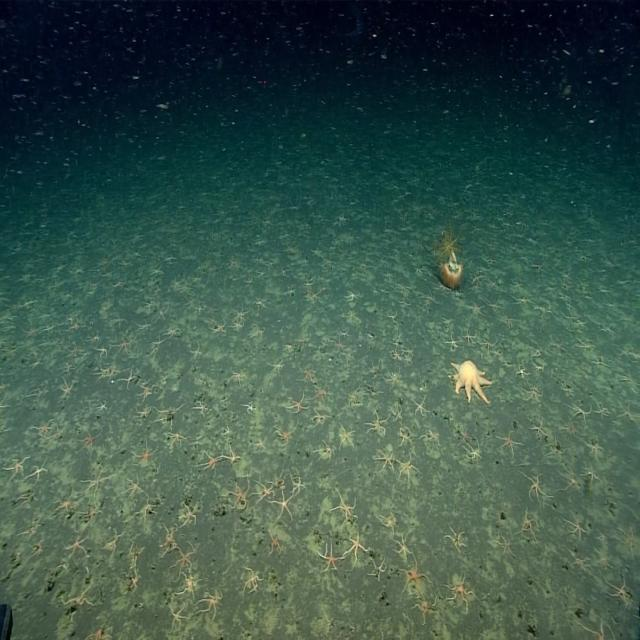brittle-stars: (82, 465, 112, 497), (605, 574, 633, 607), (401, 560, 428, 594), (520, 473, 548, 505), (172, 546, 197, 581), (446, 575, 471, 610), (228, 475, 250, 511), (272, 489, 294, 524), (64, 530, 90, 559), (319, 540, 341, 572), (334, 493, 358, 522), (64, 585, 93, 608), (201, 590, 223, 620), (347, 534, 367, 566), (415, 594, 437, 623), (134, 441, 158, 466), (54, 486, 75, 513), (242, 566, 262, 594), (565, 512, 585, 540), (560, 468, 580, 496), (336, 421, 356, 449), (5, 455, 28, 479), (497, 430, 520, 454), (158, 404, 181, 428), (520, 509, 538, 539), (569, 401, 592, 424), (179, 573, 200, 598), (397, 456, 417, 482), (170, 602, 188, 630), (582, 461, 602, 486), (374, 447, 394, 472), (275, 424, 297, 446), (202, 449, 223, 472), (618, 400, 639, 423), (80, 500, 100, 524), (162, 525, 178, 554), (33, 418, 55, 439), (445, 526, 466, 548), (368, 410, 388, 433), (30, 458, 48, 483), (79, 430, 99, 452), (179, 502, 198, 525), (412, 393, 429, 418), (138, 498, 156, 521), (464, 439, 482, 462), (254, 480, 274, 500), (125, 476, 143, 498), (495, 534, 513, 556), (564, 420, 584, 439), (523, 384, 542, 404), (371, 558, 387, 581), (127, 568, 141, 594), (268, 530, 282, 556), (529, 419, 547, 439), (316, 442, 334, 462), (313, 383, 330, 404), (312, 408, 330, 427), (290, 474, 305, 496), (381, 512, 396, 534), (167, 431, 186, 448), (395, 537, 411, 557), (59, 377, 73, 399), (193, 400, 210, 418), (289, 395, 308, 411), (348, 385, 360, 410), (586, 442, 604, 458), (462, 327, 478, 345), (225, 445, 241, 463), (114, 338, 132, 354), (234, 305, 251, 321), (66, 341, 82, 358), (321, 252, 336, 270), (446, 331, 460, 350), (390, 404, 404, 423), (270, 356, 284, 375), (156, 303, 169, 323), (366, 383, 382, 399), (136, 403, 151, 420), (230, 368, 244, 386), (121, 369, 135, 387), (300, 367, 314, 385), (385, 371, 401, 386), (212, 319, 227, 335), (512, 293, 529, 307), (595, 401, 609, 418), (481, 337, 496, 352), (470, 300, 484, 316), (426, 429, 440, 445), (139, 384, 153, 400), (252, 323, 265, 340), (190, 340, 200, 362), (24, 324, 38, 339), (486, 297, 502, 310), (458, 427, 471, 443), (231, 319, 245, 333), (345, 288, 359, 302), (111, 314, 126, 327), (166, 326, 181, 339), (368, 361, 380, 377), (242, 402, 256, 415), (94, 344, 107, 358), (138, 318, 150, 333), (335, 334, 345, 352), (516, 364, 528, 378), (97, 398, 108, 412), (151, 264, 163, 276), (312, 246, 322, 258), (392, 349, 402, 360), (228, 257, 238, 268), (404, 346, 414, 356), (253, 254, 262, 265), (208, 303, 215, 315)
